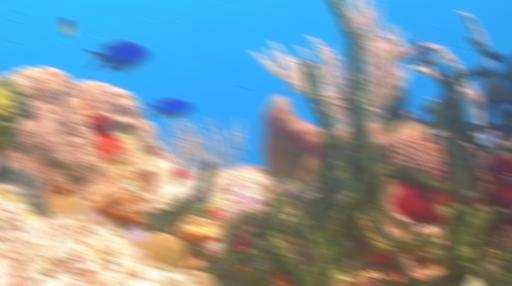Fish: (86, 40, 149, 72), (140, 98, 193, 117), (60, 18, 73, 38)
